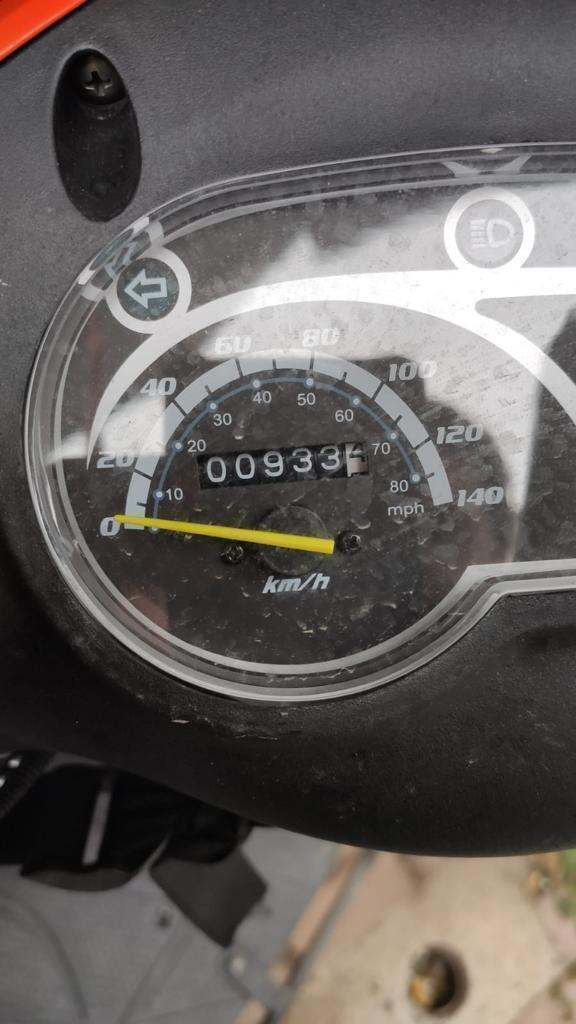0: (233, 451, 256, 479), (205, 454, 227, 483), (196, 438, 206, 452)
3: (291, 446, 313, 473), (318, 444, 340, 470)
4: (347, 442, 367, 462)
9: (261, 449, 284, 477)
odometer: (193, 437, 373, 492)
